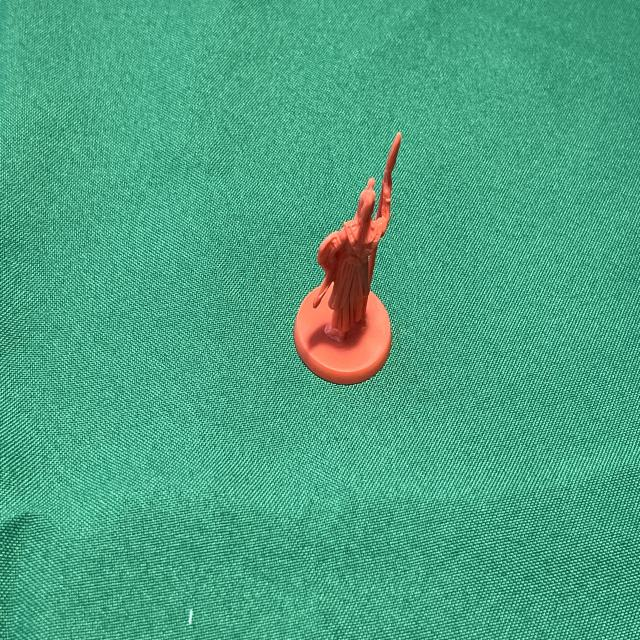amon_follower: (294, 133, 401, 385)
